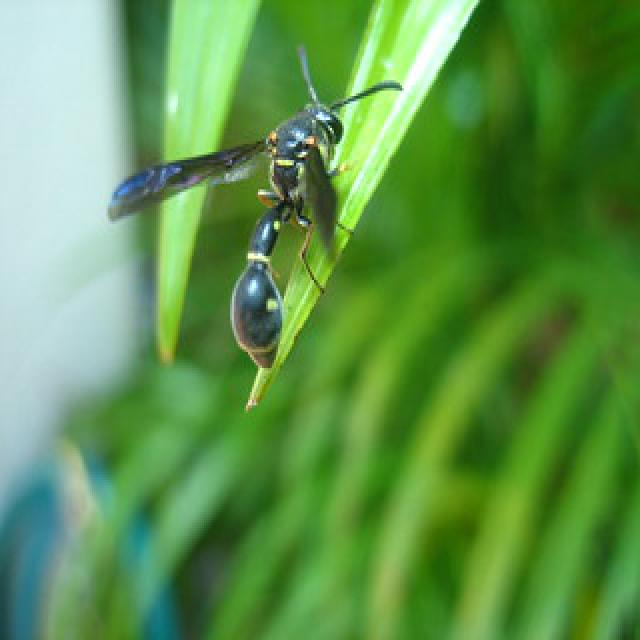Guepe: (100, 41, 415, 392)
